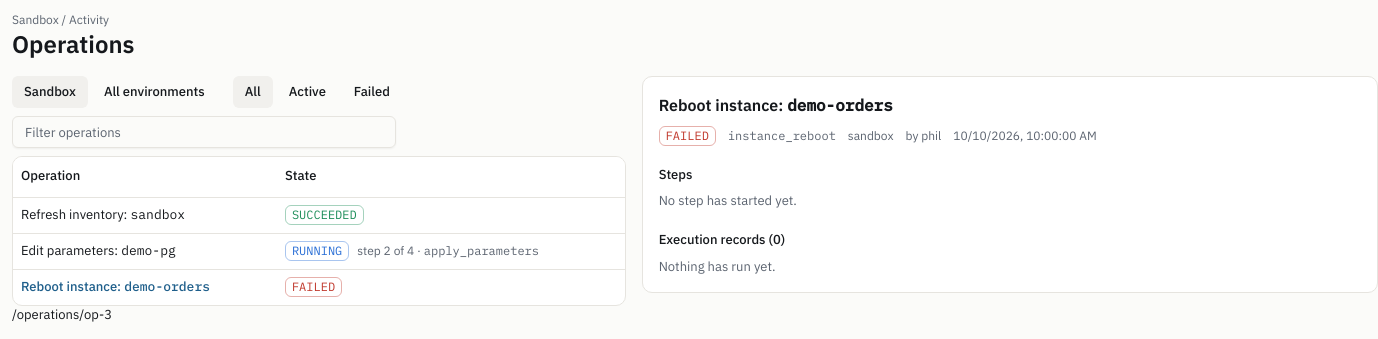
Test case: OperationsPage › narrows the list to the operation and its state while one is open, and still filters on every field
Check: the button with aria-label "Sort by Operation" is shown, box [21,168,80,186]
Check: the button with aria-label "Sort by State" is shown, box [285,168,316,186]
Type "parameter_group_edit" into the field labelled "Filter operations" at (204, 132), box [12,116,396,148]
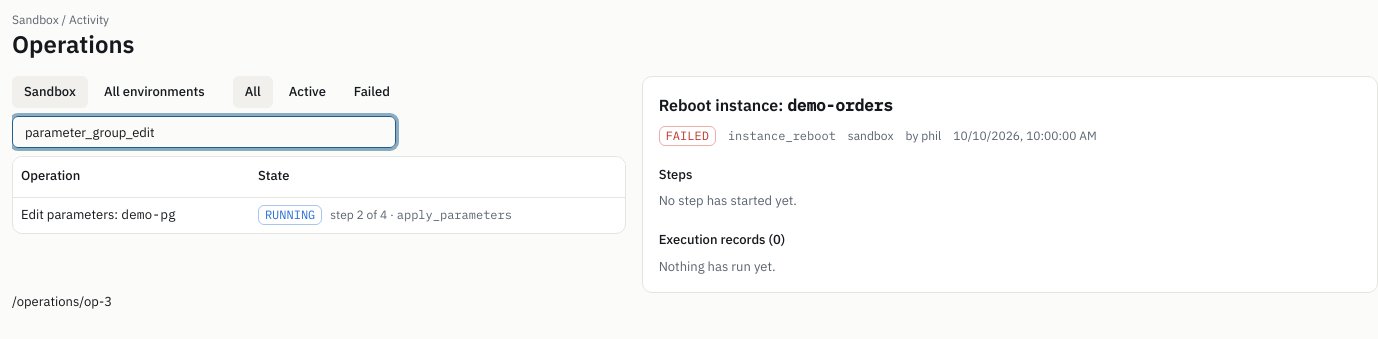
Check: the link "Edit parameters: demo-pg" is shown, box [21,206,176,223]
Check: the link "Refresh inventory: sandbox" is gone
